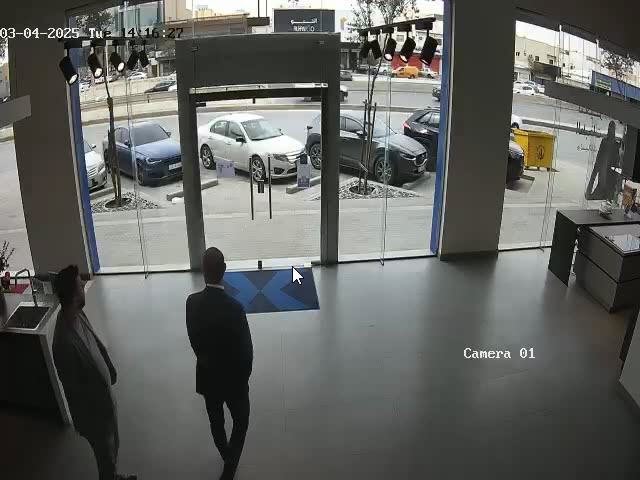male: (47, 264, 133, 480), (185, 247, 254, 480)
